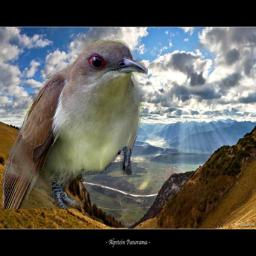Cuckoo: (2, 40, 148, 209)
